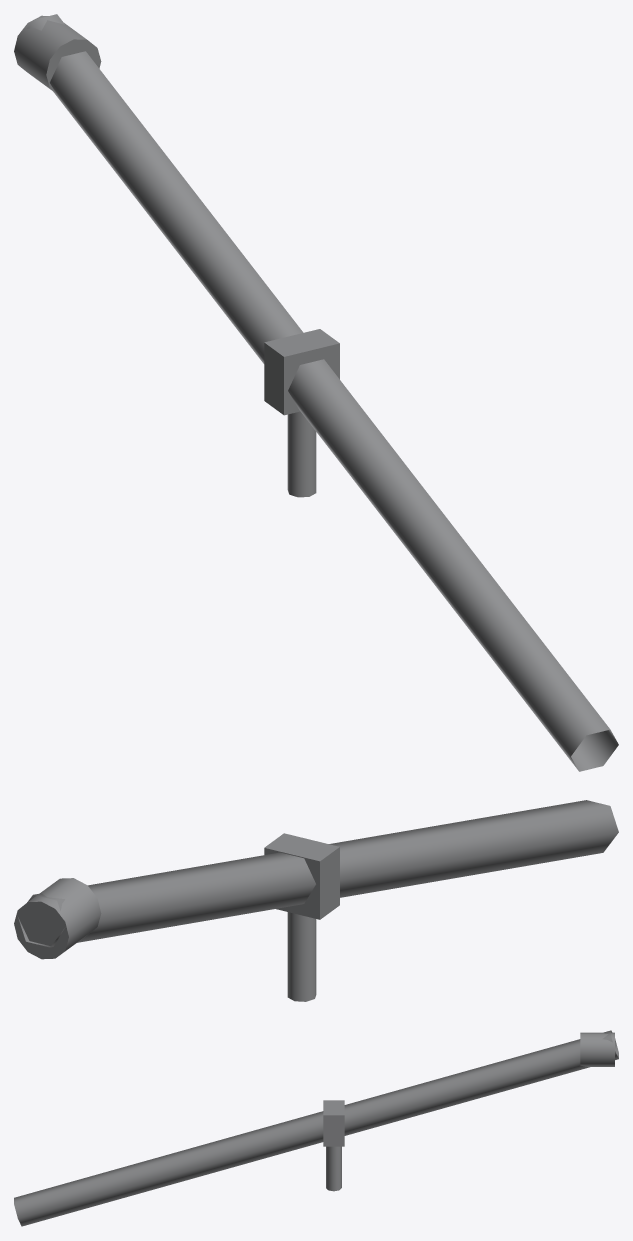
3 renders of one model, top to bottom at view 1: azimuth 30°, elevation 25°; view 2: azimuth 150°, elevation 25°; view 3: azimuth 270°, elevation 25°, orthographic. The views are drawn at different scales.
Size of the model in its own units: 0.13 by 0.7827 by 2.26.
